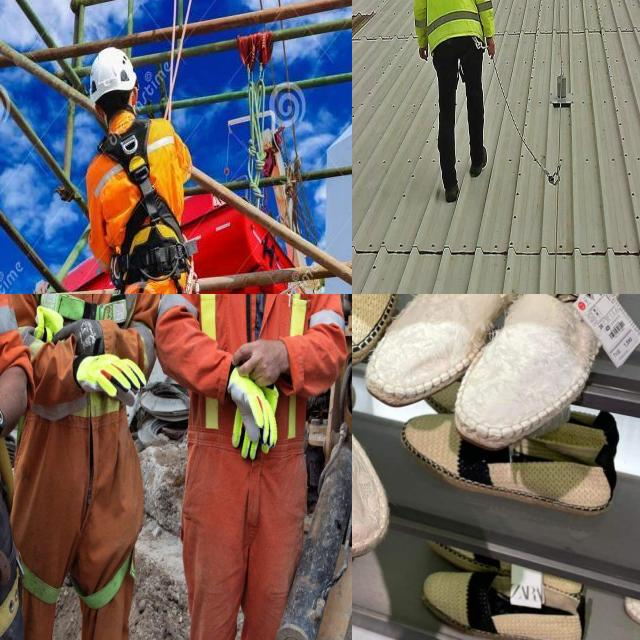Harness: (98, 118, 187, 286)
Sandals: (352, 294, 640, 450)
hand_glove: (221, 363, 285, 457), (74, 341, 147, 415)
hand_noglove: (234, 326, 292, 392)
person: (163, 294, 330, 640), (0, 294, 160, 640), (412, 0, 499, 202)
shoes: (440, 167, 463, 209), (467, 143, 488, 180)
vest: (186, 294, 338, 456), (27, 294, 147, 427), (416, 0, 496, 50)
